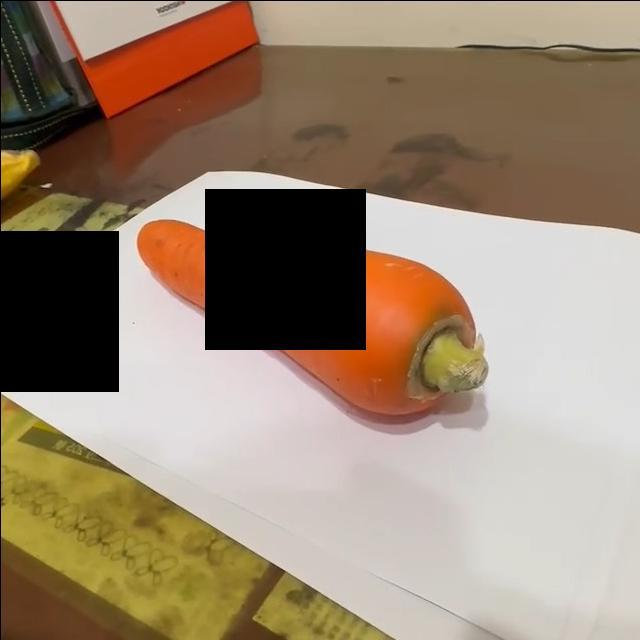carrot: (136, 217, 489, 421)
